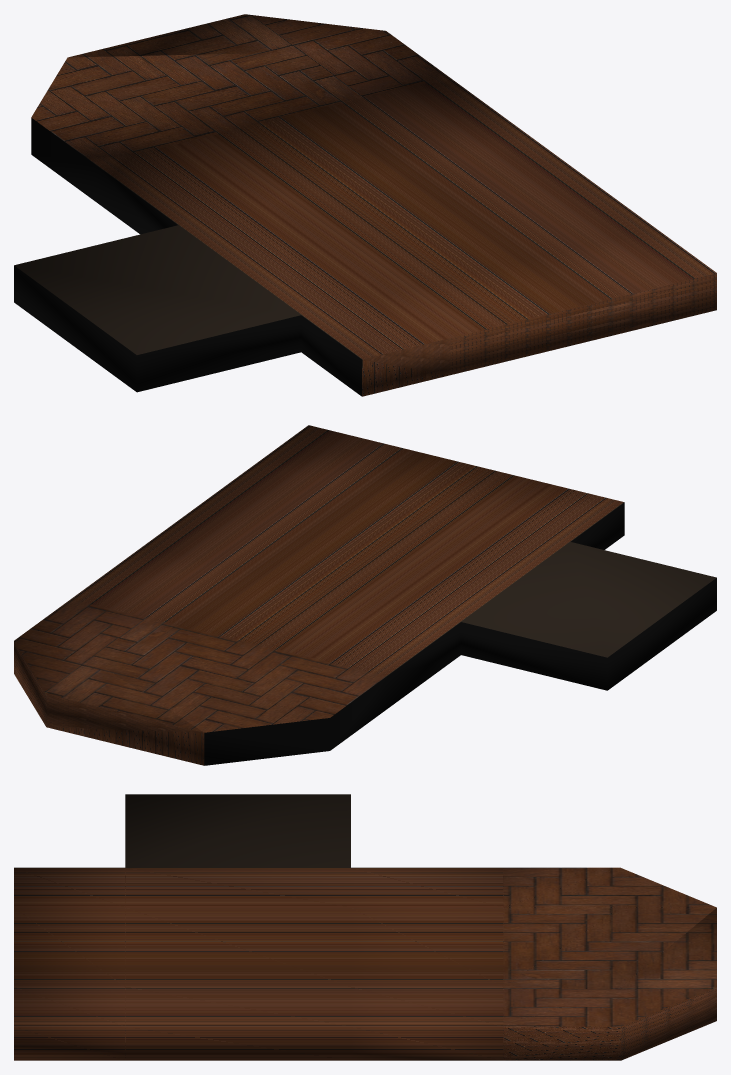
Rendered from LVL1_HiddenRoomBlackBoard.fbx.
The picture shows the model from 3 angles, top to bottom: view 1: azimuth 30°, elevation 25°; view 2: azimuth 150°, elevation 25°; view 3: azimuth 270°, elevation 25°; orthographic projection. The views are drawn at different scales.
Visible parts, largest first — view 1: Floor_hiddenRoom; view 2: Floor_hiddenRoom; view 3: Floor_hiddenRoom.
Boxes of the visible parts, x1=… form: Floor_hiddenRoom: x1=14, y1=14, x2=716, y2=396; Floor_hiddenRoom: x1=14, y1=425, x2=716, y2=765; Floor_hiddenRoom: x1=14, y1=794, x2=716, y2=1060.
Size of the model in its own units: 7.48 by 5.85 by 0.4.
Materials: 2 (1 with a texture image).
